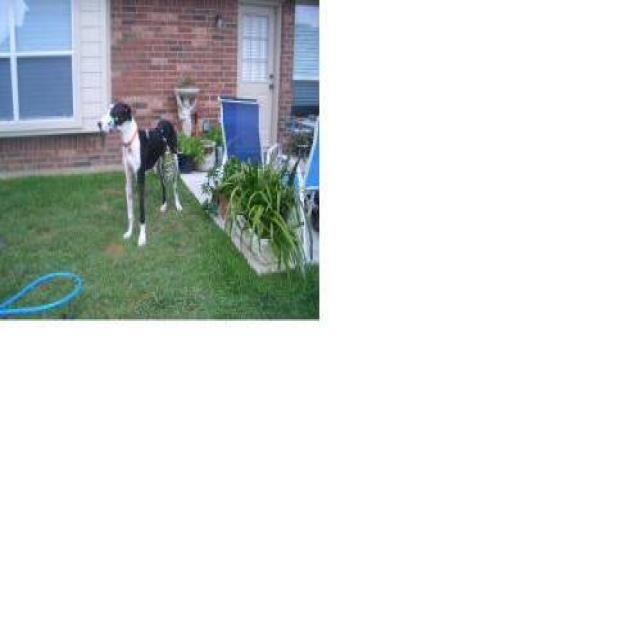dog: (96, 99, 184, 246)
